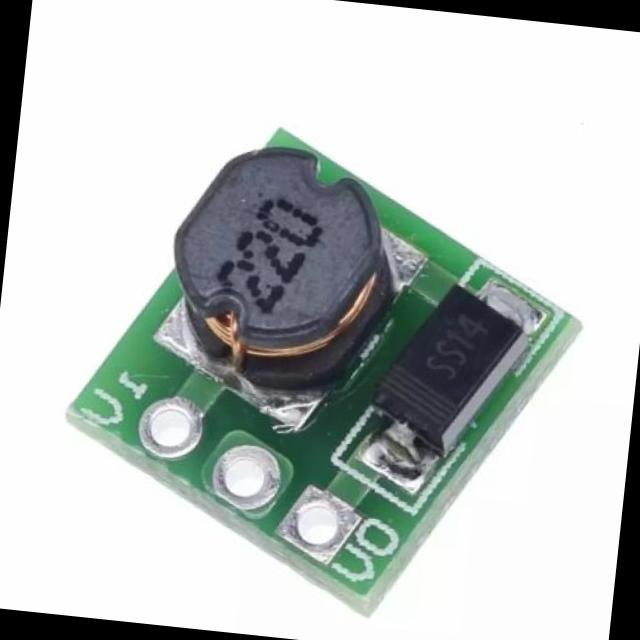diode: (350, 275, 545, 489)
